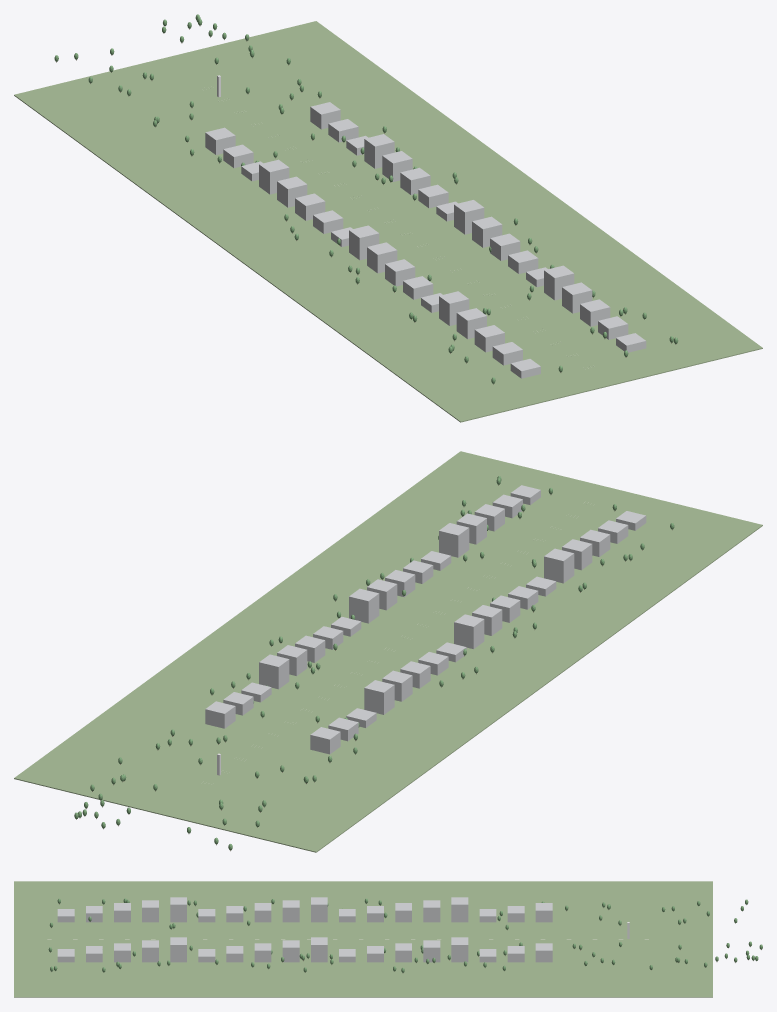
File: brasilia-eixo-monumental.glb
The picture shows the model from 3 angles, top to bottom: view 1: azimuth 30°, elevation 25°; view 2: azimuth 150°, elevation 25°; view 3: azimuth 270°, elevation 25°; orthographic projection. The views are drawn at different scales.
Parts seen in each view (by area): view 1: TERRAIN_ground, building_14_1, building_4_-1, building_9_-1, building_4_1, building_14_-1, building_9_1, building_3_-1, building_3_1, building_8_1, building_13_-1, building_8_-1 (+1 smaller); view 2: TERRAIN_ground, building_4_1, building_14_1, building_9_-1, building_14_-1, building_4_-1, building_9_1, building_17_-1, building_17_1; view 3: TERRAIN_ground, building_14_-1, building_14_1, building_4_-1, building_4_1, building_9_-1, building_9_1, building_8_-1, building_13_-1, building_8_1, building_13_1, building_3_-1 (+25 smaller).
Part boxes in pixels (x1,y1,x2,y2): TERRAIN_ground: (14,21,762,422); building_14_1: (364,134,394,168); building_4_-1: (439,291,469,325); building_9_-1: (349,225,379,260); building_4_1: (544,265,574,300); building_14_-1: (259,159,289,194); building_9_1: (454,200,484,234); building_3_-1: (456,308,486,339); building_3_1: (562,282,592,313); building_8_1: (472,216,502,247); building_13_-1: (277,176,307,207); building_8_-1: (367,242,397,273); TERRAIN_ground: (14,451,762,852); building_4_1: (439,523,469,557); building_14_1: (259,654,289,689); building_9_-1: (454,614,484,649); building_14_-1: (364,680,394,714); building_4_-1: (544,548,574,583); building_9_1: (349,588,379,623); building_17_-1: (310,727,340,754); building_17_1: (205,701,235,728); TERRAIN_ground: (14,881,712,997); building_14_-1: (451,897,468,922); building_14_1: (451,937,468,962); building_4_-1: (170,897,186,922); building_4_1: (170,937,186,962); building_9_-1: (311,897,327,922); building_9_1: (311,937,327,962); building_8_-1: (282,900,299,922); building_13_-1: (423,900,440,922); building_8_1: (282,940,299,962); building_13_1: (423,940,440,962); building_3_-1: (142,900,158,922).
Size of what is drawn, in the model's own units: 340 by 25.8 by 932.
